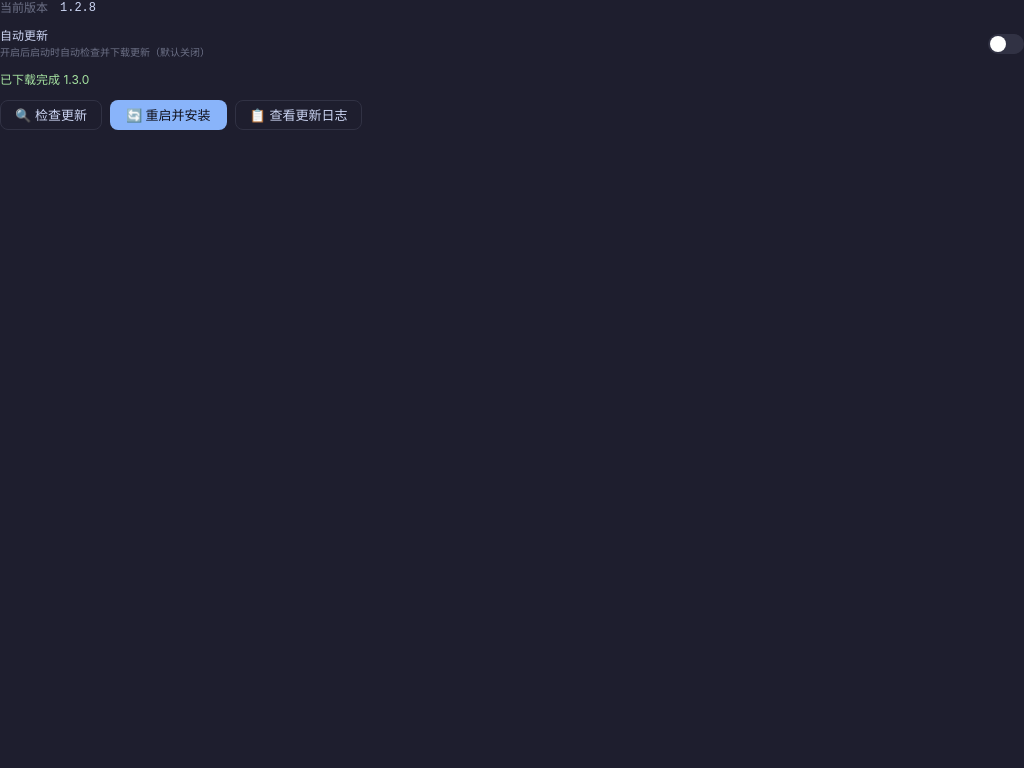
Test: §312 重启安装那发：失败是返回值，就得把原因说出来 › 对账不过 ⇒ 那句「补丁已过期…」上屏（不是静默不动）
Click the button "🔄 重启并安装".
click(168, 115)  # box x1=110 y1=100 x2=227 y2=130
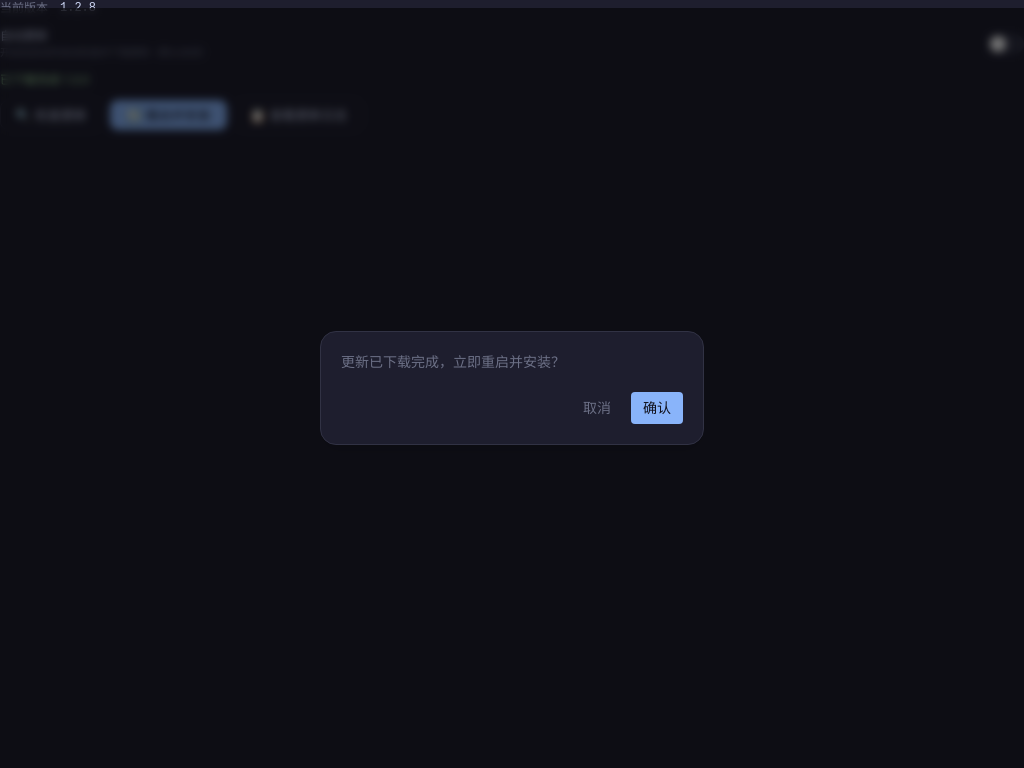
Click the button "确认".
click(657, 408)  # box x1=631 y1=392 x2=683 y2=424
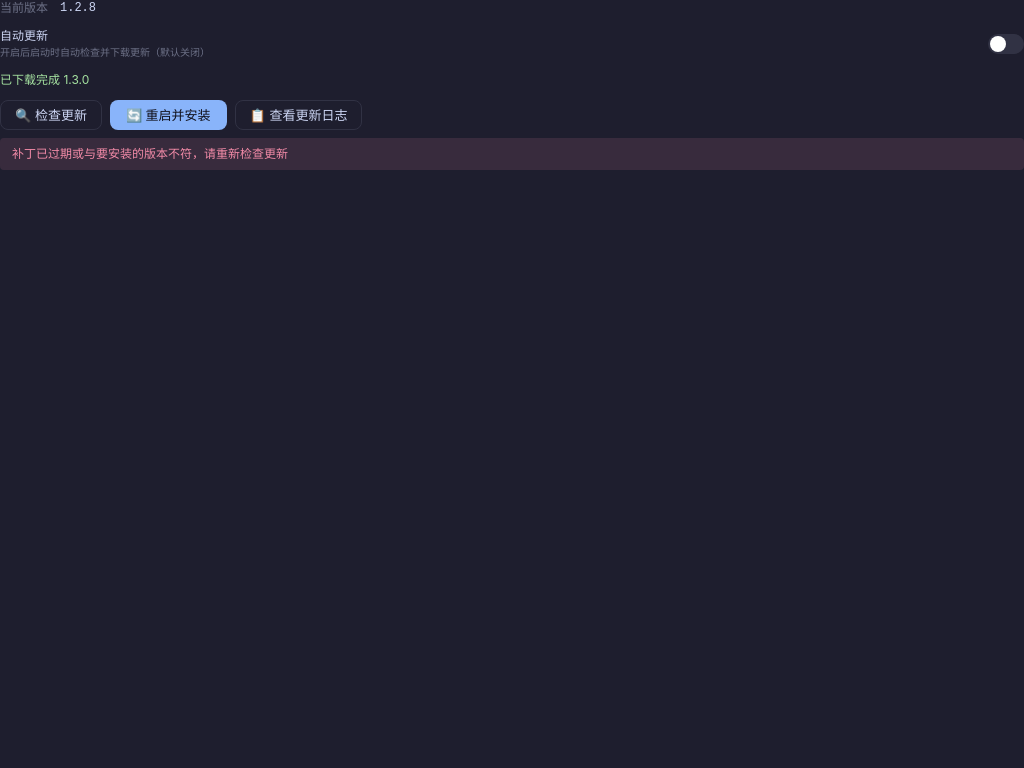
Now the text "补丁已过期或与要安装的版本不符，请重新检查更新" is shown, box x1=0 y1=138 x2=1023 y2=170
